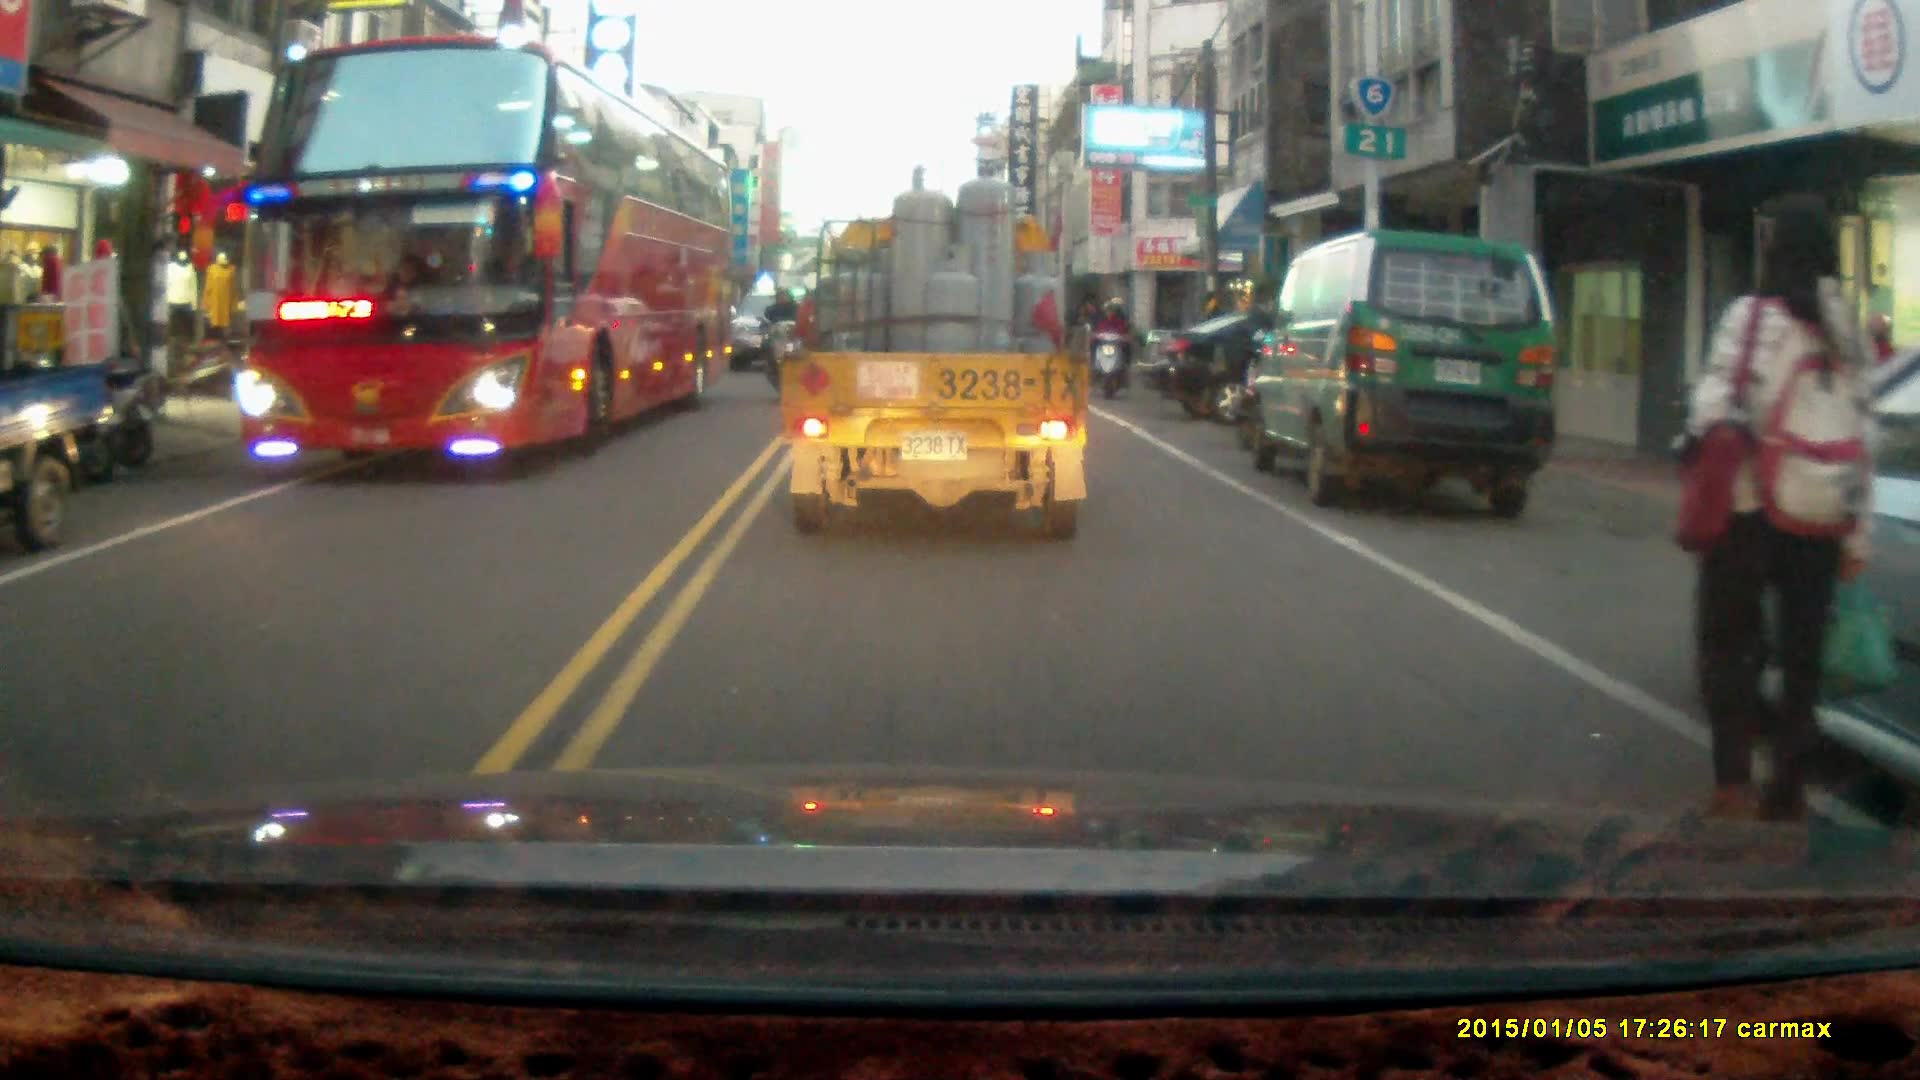pedestrian: (1678, 192, 1878, 850)
rider: (756, 285, 820, 412), (1086, 295, 1134, 398)
vehicle: (234, 32, 739, 467), (785, 155, 1093, 540), (1249, 225, 1561, 511), (1135, 304, 1449, 417), (1, 365, 113, 554), (719, 292, 842, 377)
